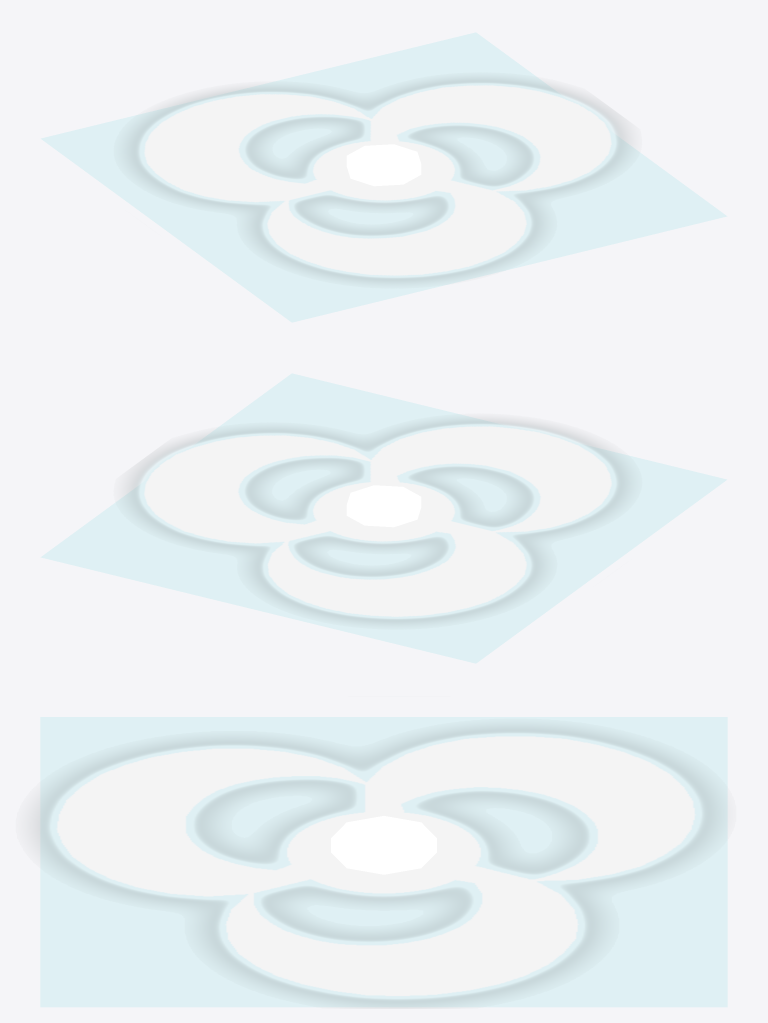
Rendered from fx_glaive_asc.glb.
The picture shows the model from 3 angles, top to bottom: view 1: azimuth 30°, elevation 25°; view 2: azimuth 150°, elevation 25°; view 3: azimuth 270°, elevation 25°; orthographic projection. The views are drawn at different scales.
Visible parts, largest first — view 1: fx_glaive, fx_glaive_halo, fx_glaive_metal; view 2: fx_glaive, fx_glaive_halo, fx_glaive_metal; view 3: fx_glaive, fx_glaive_halo, fx_glaive_metal.
Boxes of the visible parts, x1,y1,x2,y2 form: fx_glaive: (127, 78, 627, 282); fx_glaive_halo: (41, 32, 727, 322); fx_glaive_metal: (346, 144, 421, 186); fx_glaive: (127, 419, 627, 623); fx_glaive_halo: (40, 373, 726, 663); fx_glaive_metal: (346, 485, 421, 527); fx_glaive: (34, 726, 717, 1006); fx_glaive_halo: (40, 717, 727, 1007); fx_glaive_metal: (331, 816, 436, 874).
Size of the model in its own units: 1.4 by 0.06 by 1.4.
3 materials, 2 textured.
